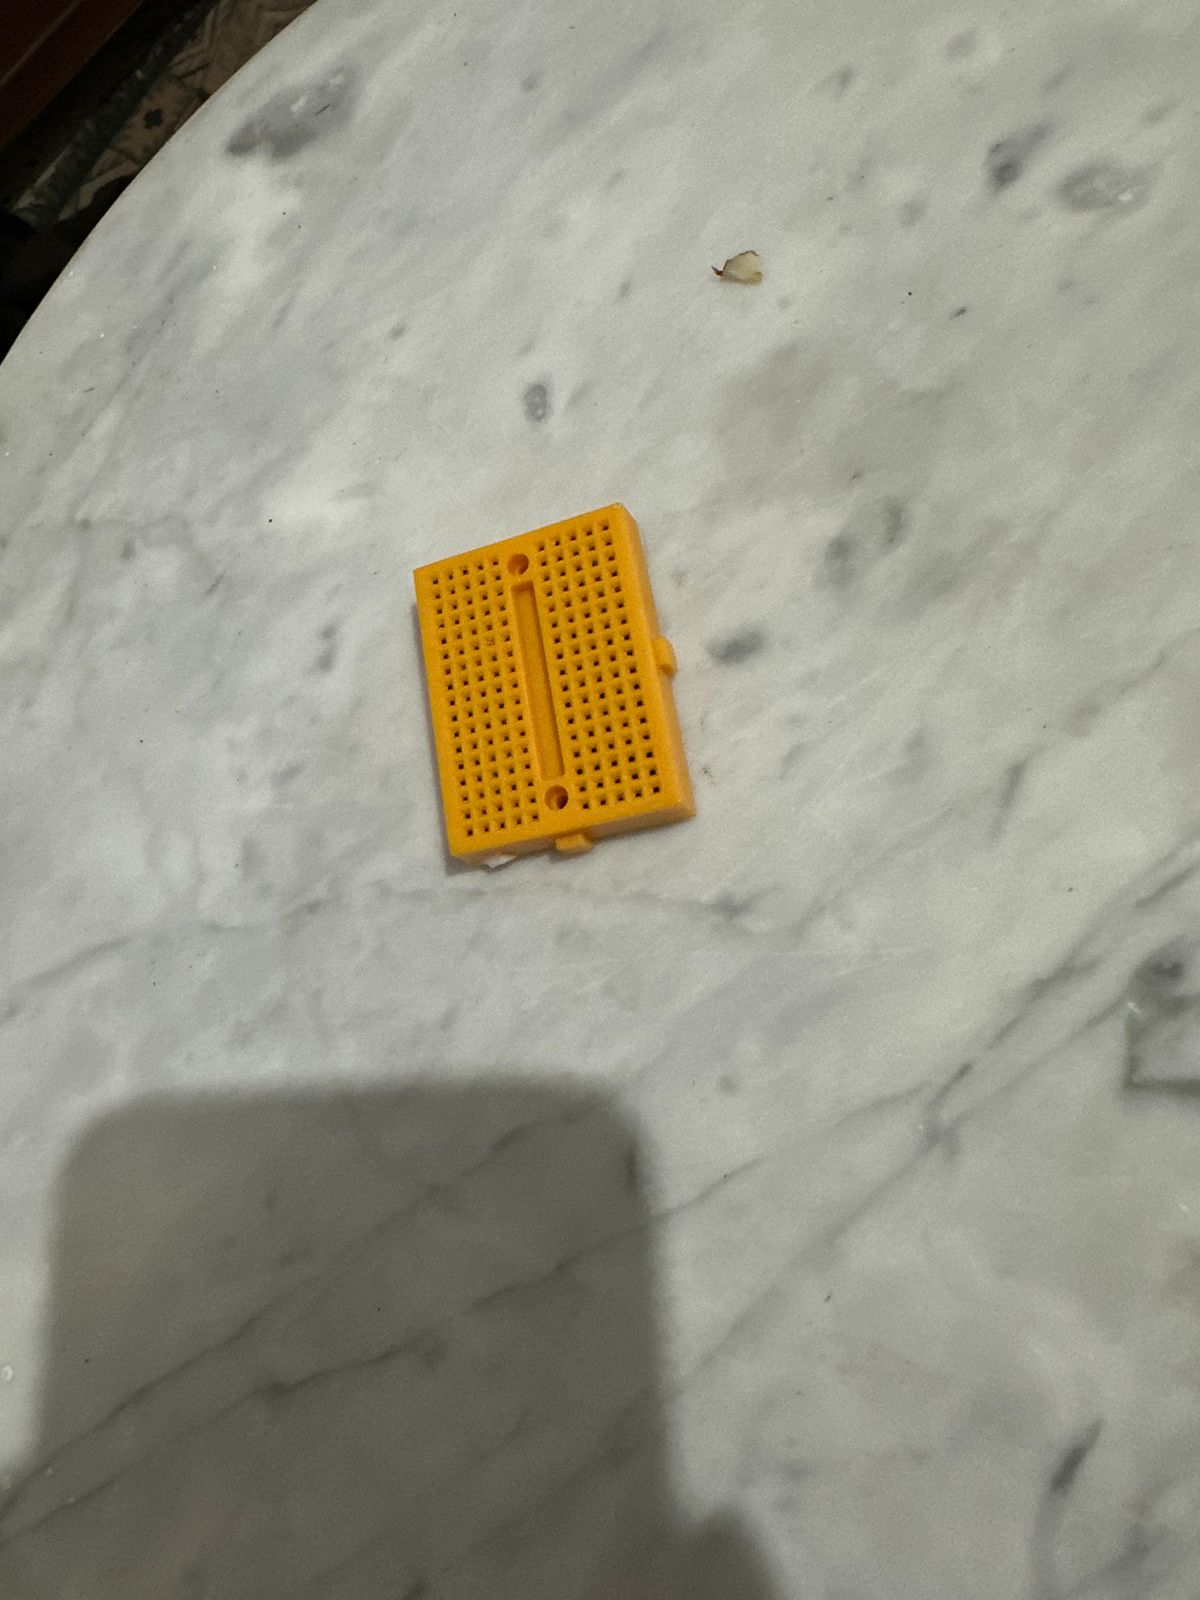breadboard: (410, 500, 695, 868)
